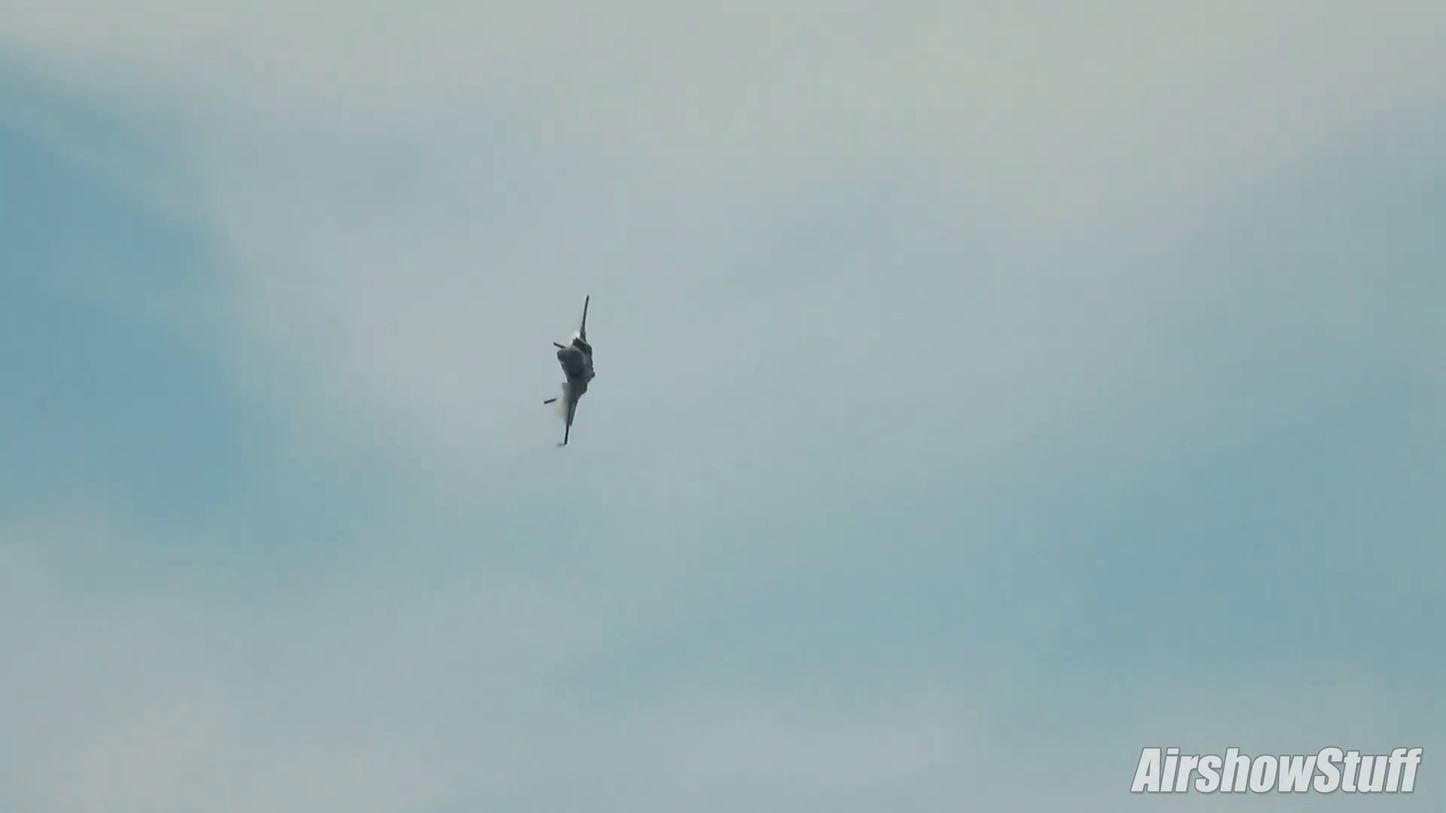F35: (542, 292, 599, 450)
